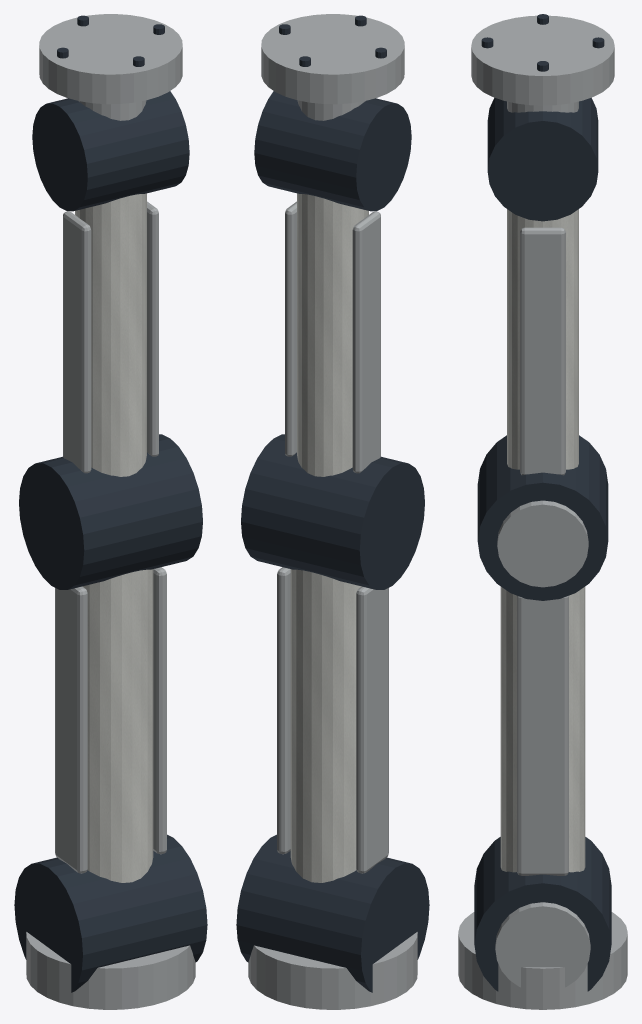
The model's file is robotic_arm.glb.
3 renders of one model, left to right at view 1: azimuth 30°, elevation 25°; view 2: azimuth 150°, elevation 25°; view 3: azimuth 270°, elevation 25°, orthographic.
Visible parts, largest first — view 1: Upper_Link, Elbow_Actuator, Shoulder_Actuator, Forearm_Link, Wrist_Actuator, Turret_Interface, Upper_Stiffener, Arm_Mount, Forearm_Stiffener, Upper_Stiffener.001, Forearm_Stiffener.001, Turret_Stem; view 2: Upper_Link, Elbow_Actuator, Shoulder_Actuator, Forearm_Link, Wrist_Actuator, Turret_Interface, Upper_Stiffener, Arm_Mount, Forearm_Stiffener, Upper_Stiffener.001, Forearm_Stiffener.001, Turret_Stem; view 3: Upper_Stiffener.001, Wrist_Actuator, Forearm_Stiffener.001, Turret_Interface, Elbow_Actuator, Upper_Link, Shoulder_Actuator, Forearm_Link, Arm_Mount, Elbow_EndCap, Shoulder_EndCap, Turret_Stem.
Part boxes in pixels (box(x1,y1,x2,y2)): Upper_Link: box(82, 569, 153, 882); Elbow_Actuator: box(19, 434, 202, 589); Shoulder_Actuator: box(14, 834, 207, 992); Forearm_Link: box(75, 193, 146, 476); Wrist_Actuator: box(32, 91, 189, 211); Turret_Interface: box(39, 14, 182, 104); Upper_Stiffener: box(55, 586, 87, 873); Arm_Mount: box(26, 932, 195, 1009); Forearm_Stiffener: box(63, 211, 91, 473); Upper_Stiffener.001: box(153, 567, 166, 854); Forearm_Stiffener.001: box(147, 201, 158, 456); Turret_Stem: box(78, 100, 146, 120); Upper_Link: box(290, 569, 361, 882); Elbow_Actuator: box(241, 434, 424, 589); Shoulder_Actuator: box(236, 834, 429, 992); Forearm_Link: box(297, 193, 368, 476); Wrist_Actuator: box(254, 91, 411, 211); Turret_Interface: box(261, 14, 404, 104); Upper_Stiffener: box(356, 586, 388, 873); Arm_Mount: box(248, 932, 417, 1009); Forearm_Stiffener: box(352, 211, 380, 473); Upper_Stiffener.001: box(277, 567, 290, 854); Forearm_Stiffener.001: box(285, 201, 296, 456); Turret_Stem: box(297, 100, 365, 120); Upper_Stiffener.001: box(517, 595, 568, 875); Wrist_Actuator: box(487, 97, 598, 221); Forearm_Stiffener.001: box(520, 227, 565, 475); Turret_Interface: box(471, 15, 614, 105); Elbow_Actuator: box(477, 435, 608, 600); Upper_Link: box(500, 586, 585, 872); Shoulder_Actuator: box(474, 837, 611, 991); Forearm_Link: box(507, 209, 578, 469); Arm_Mount: box(458, 912, 627, 1009); Elbow_EndCap: box(497, 500, 588, 587); Shoulder_EndCap: box(495, 902, 590, 987); Turret_Stem: box(507, 101, 578, 112).
Bounding box in the file's own units: 0.26 × 1.59 × 0.26.
3 materials, 1 textured.
